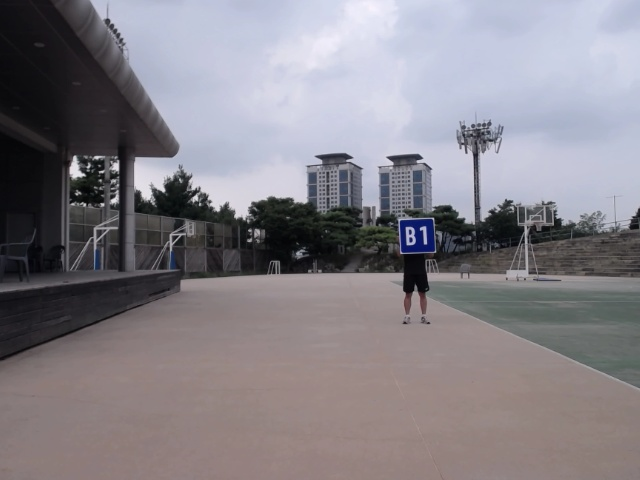delivery_b1: (399, 217, 436, 253)
